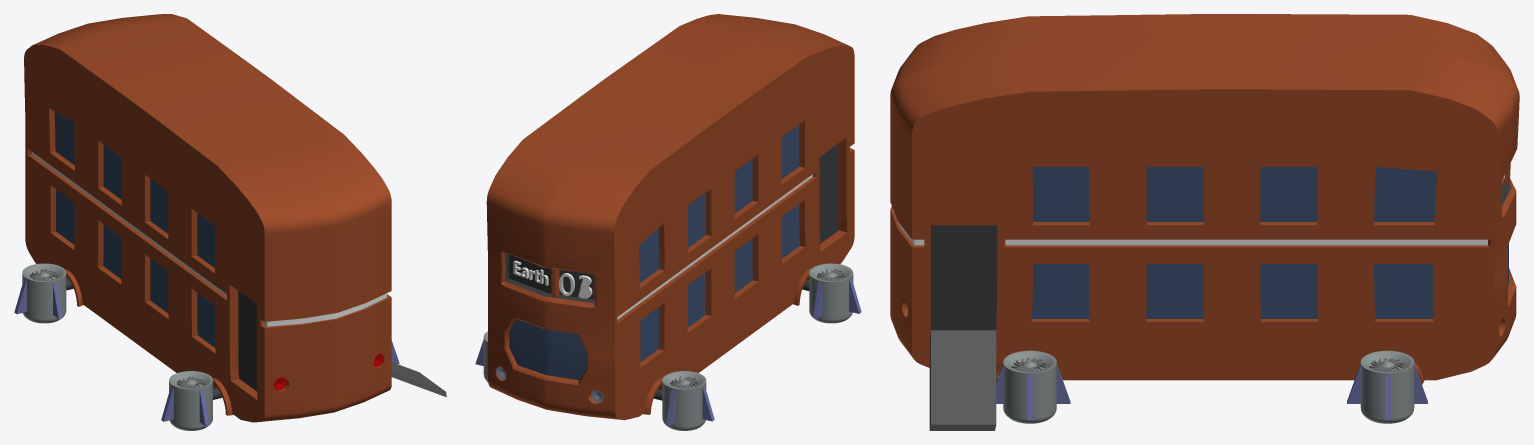
The model's file is big bus ufo.fbx.
3 renders of one model, left to right at view 1: azimuth 30°, elevation 25°; view 2: azimuth 150°, elevation 25°; view 3: azimuth 270°, elevation 25°, orthographic. The views are drawn at different scales.
Parts seen in each view (by area): view 1: big_ufo1; view 2: big_ufo1; view 3: big_ufo1.
Part boxes in pixels (x1,y1,x2,y2): big_ufo1: (14, 14, 446, 430); big_ufo1: (475, 14, 861, 430); big_ufo1: (890, 14, 1519, 430).
Bounding box in the file's own units: 12.76 × 12.92 × 23.49.
